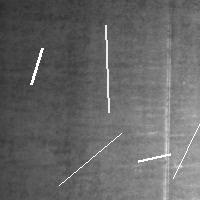scratches: (54, 128, 126, 190), (168, 88, 200, 183), (160, 34, 173, 199), (101, 20, 114, 117), (26, 43, 47, 89), (133, 149, 175, 166)
